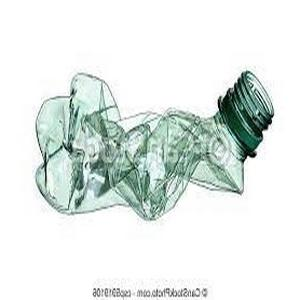Plastic: (34, 72, 274, 223)
